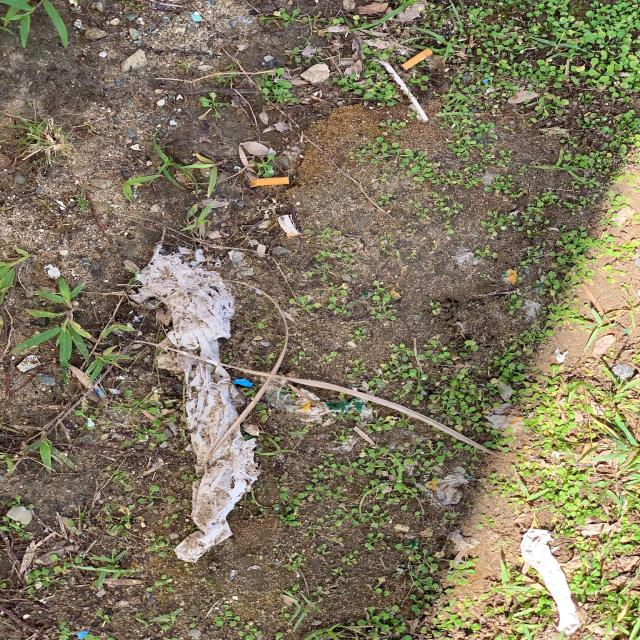litter: (132, 246, 260, 562), (519, 529, 582, 634), (375, 59, 430, 122), (398, 47, 434, 72), (249, 177, 289, 186)
